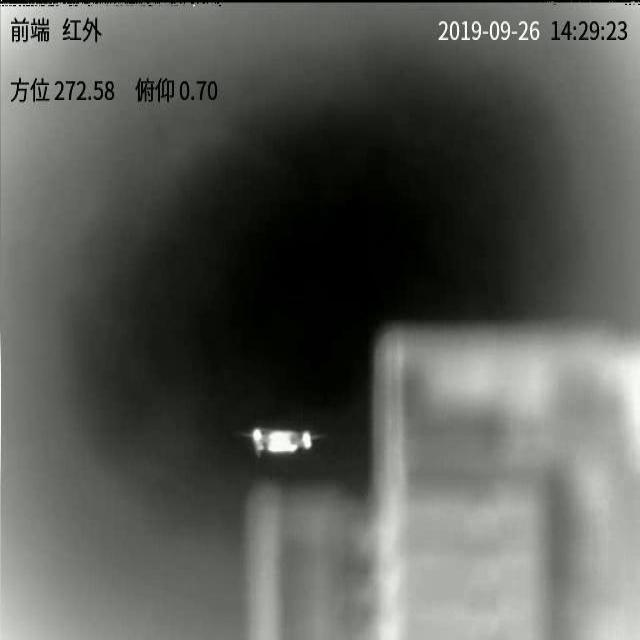drone: (240, 427, 324, 457)
